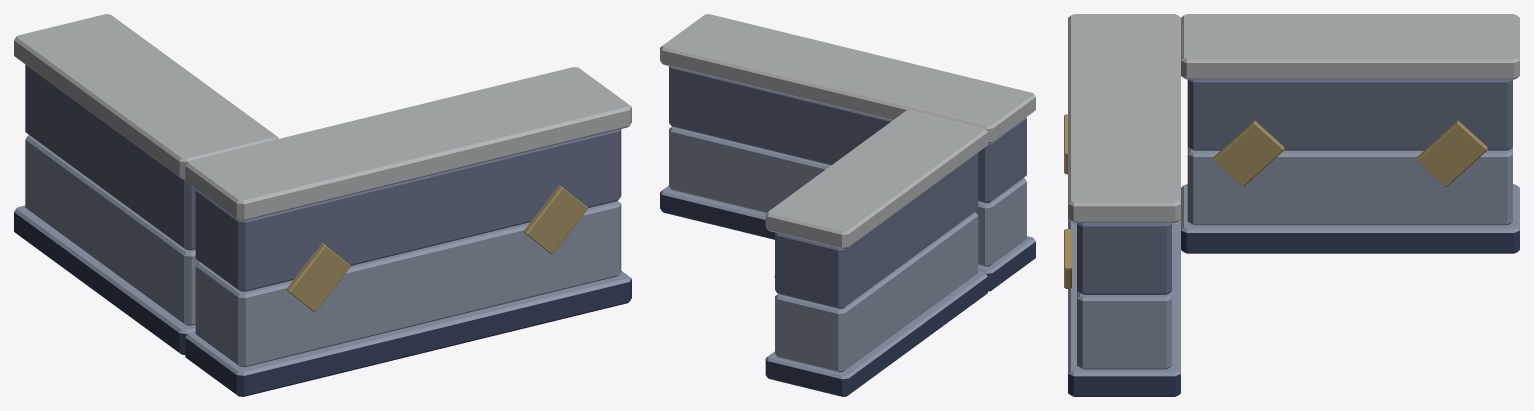
The model's file is wall-corner.glb.
3 views of the same model, side by side, from view 1: azimuth 30°, elevation 25°; view 2: azimuth 150°, elevation 25°; view 3: azimuth 270°, elevation 25° (orthographic). The views are drawn at different scales.
Visible parts, largest first — view 1: wall-corner__body; view 2: wall-corner__body; view 3: wall-corner__body.
Part boxes in pixels (bbox=[...]): wall-corner__body: bbox=[14, 14, 631, 396]; wall-corner__body: bbox=[660, 14, 1035, 396]; wall-corner__body: bbox=[1064, 14, 1519, 396].
Bounding box in the file's own units: 2 × 0.95 × 2.02.
